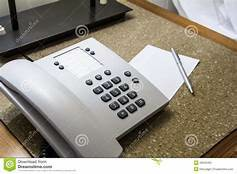pen: (170, 47, 194, 95)
